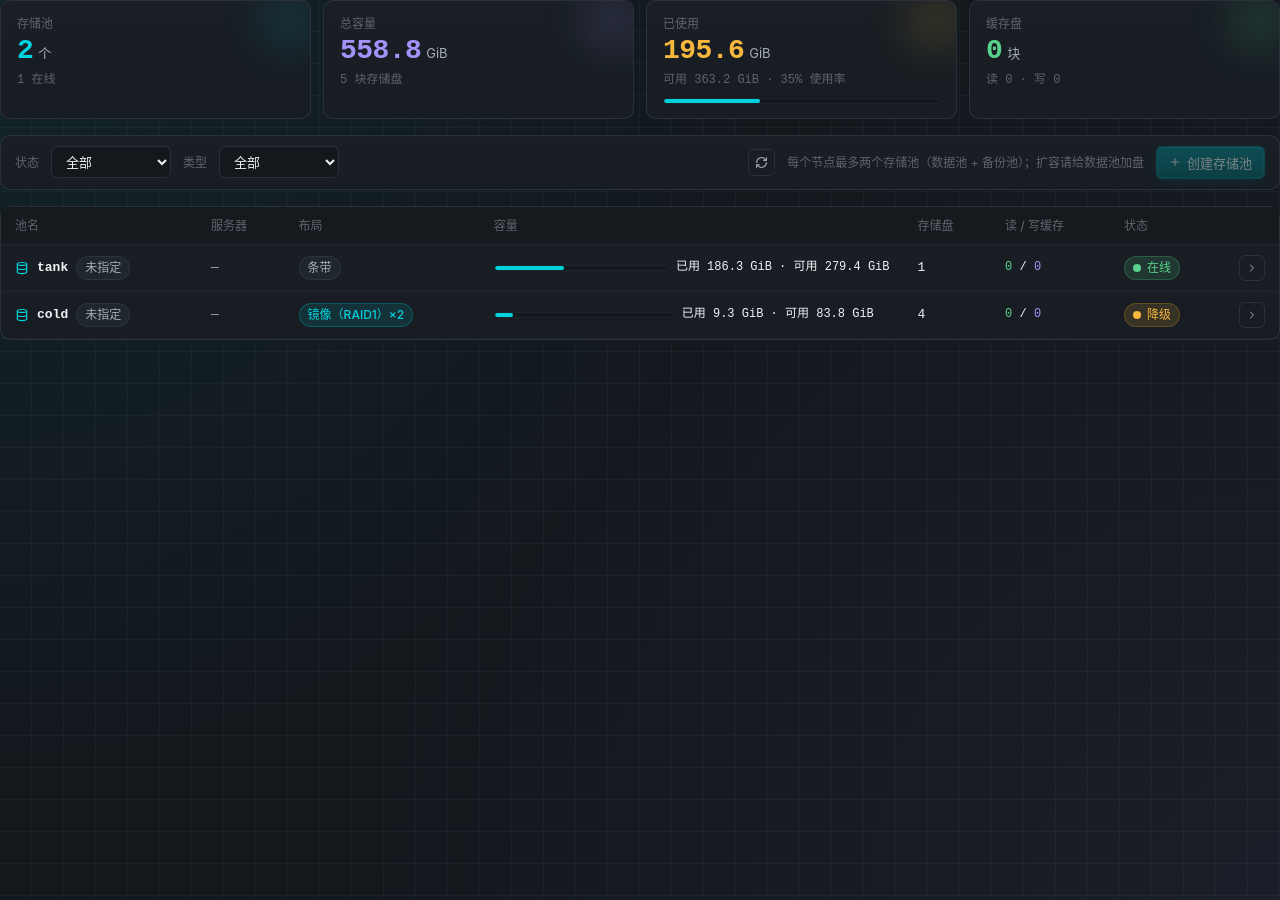
Test: 存储页 › 单盘条带池不显示升级，只给这块盘加 RAID1 盘
What coordinates should you click on to do the following:
click the text "tank"
I would click on:
 (53, 268)
Its box is [37,259,68,278].
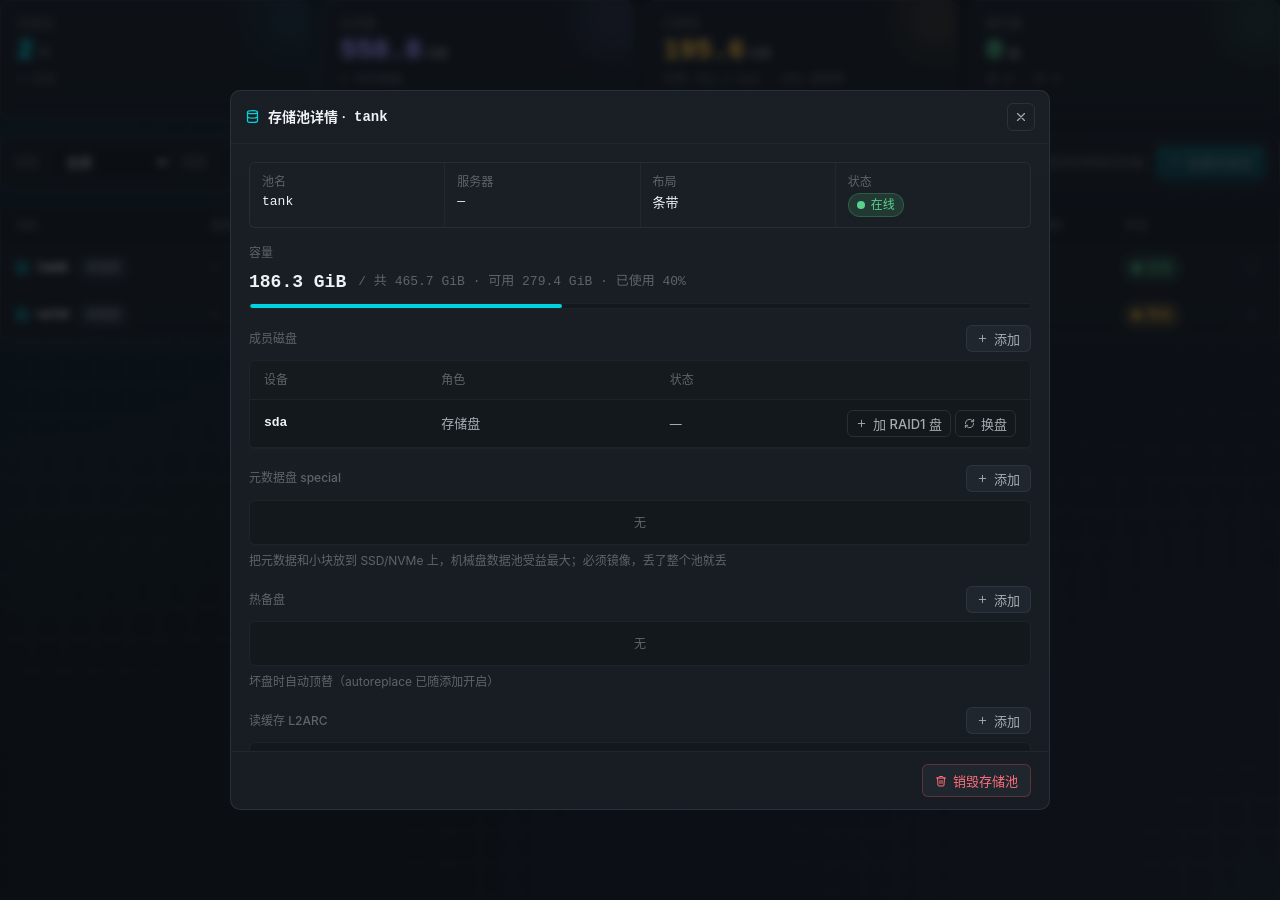
Expected: the button with aria-label "给 sda 加 RAID1 盘" is shown, [847,410,951,437]
